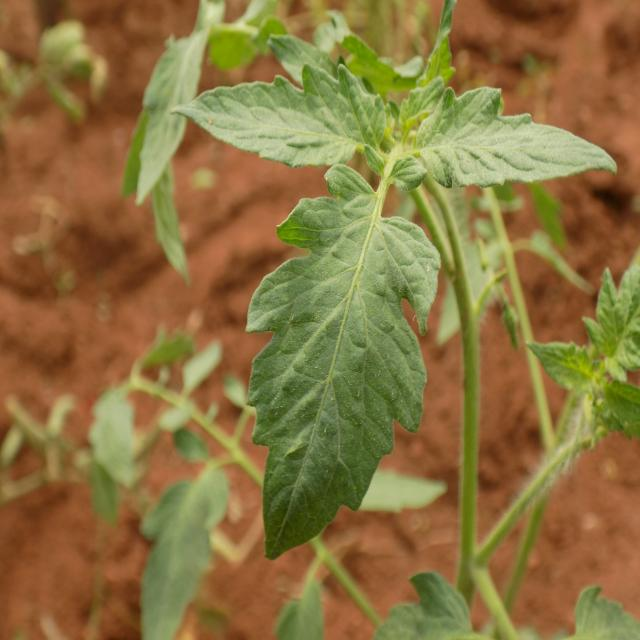tomato_healthy: (247, 161, 441, 558), (175, 63, 383, 167), (414, 85, 615, 187)
